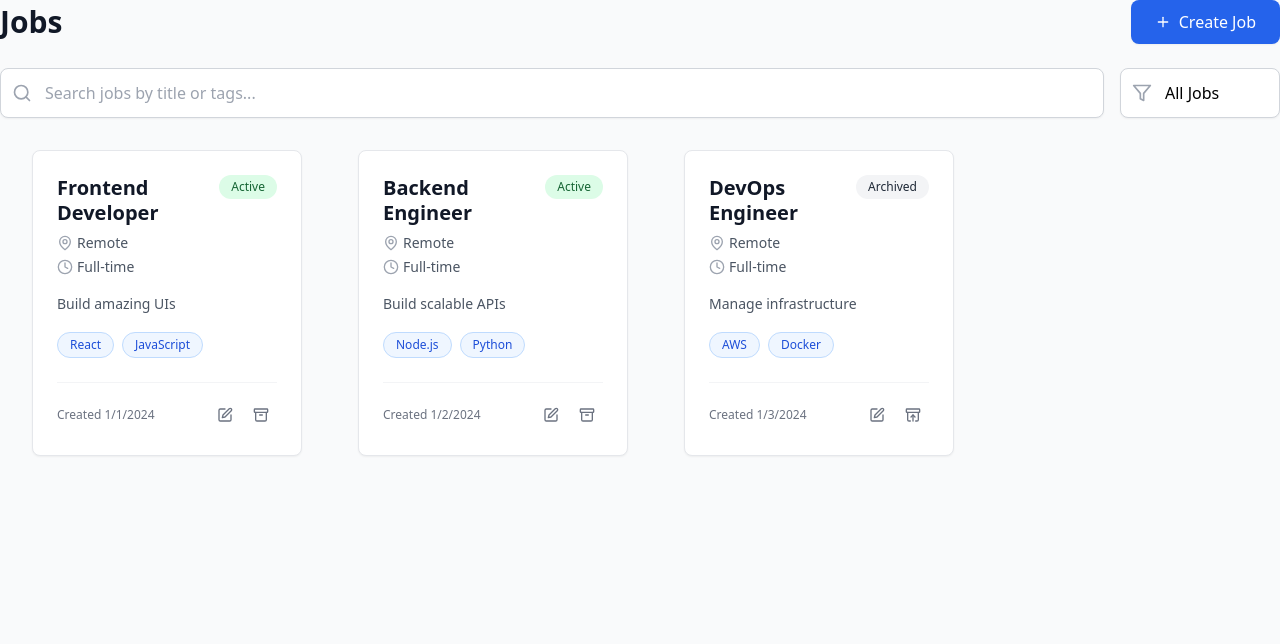
Test: JobsPage › opens create job modal
Step 1. Click the button "Create Job" → click(1205, 22), box 1131,0 -> 1279,44
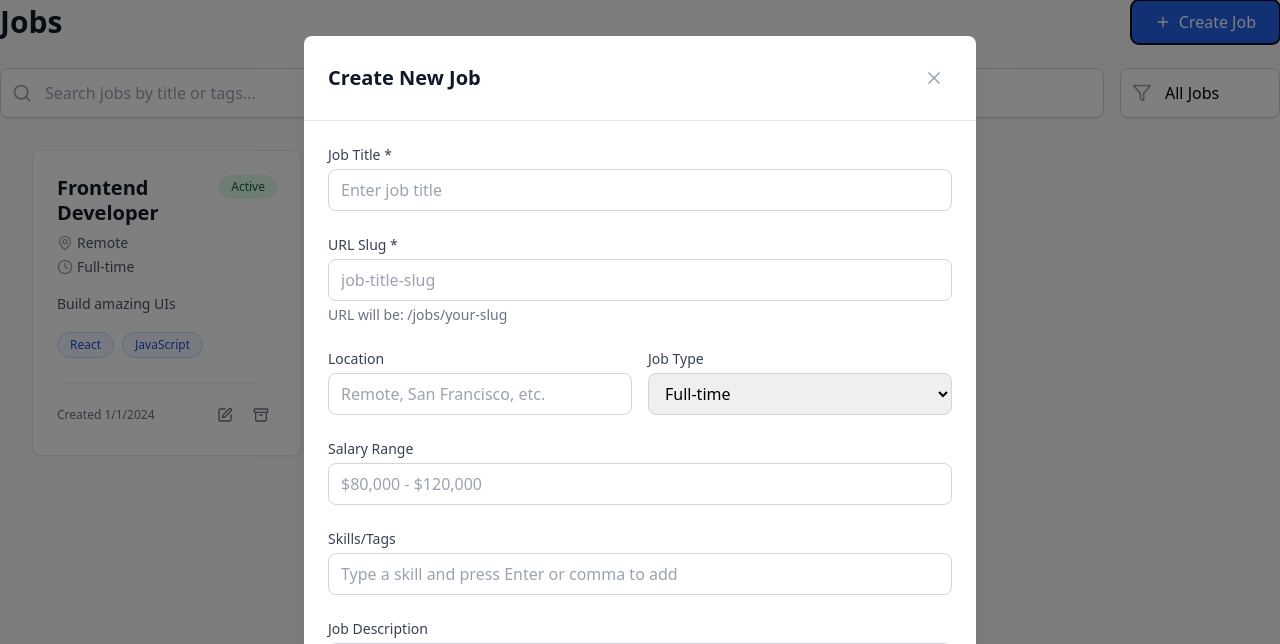
Check: the heading "Create New Job" is shown, box 328,64 -> 481,92
Check: the field labelled "Job Title *" is shown, box 328,169 -> 952,211
